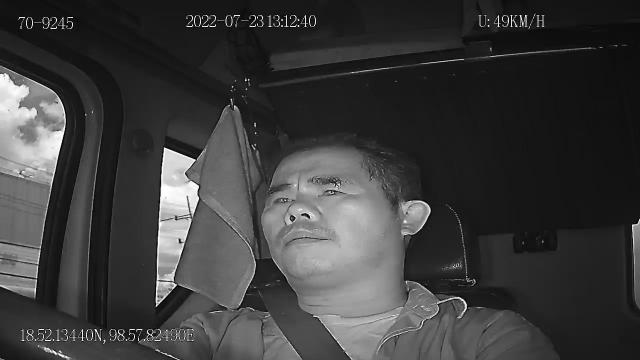SafeDriving: (311, 177, 352, 202), (266, 187, 298, 210)
Seatbelt: (256, 284, 354, 360)
